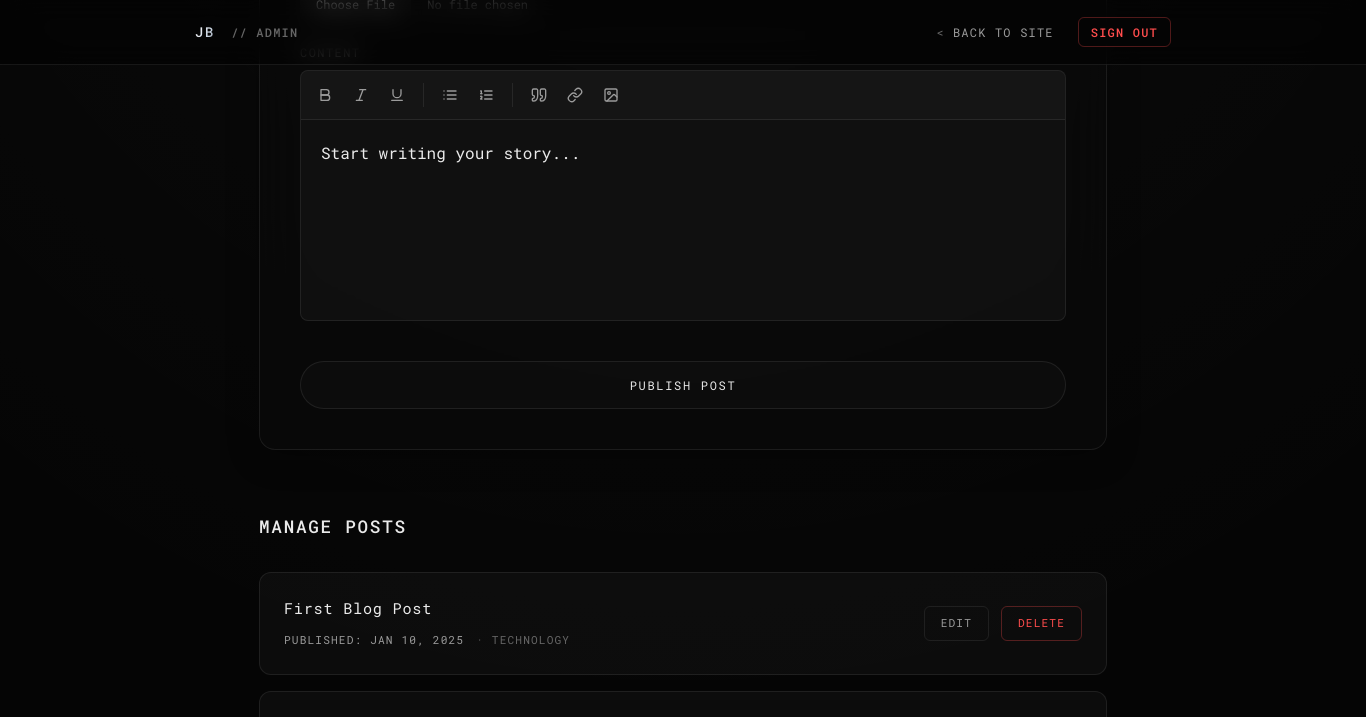
Test: AdminDashboard › shows validation error when submitting without a title
This screenshot has width=1366, height=717.
(page scrolled)
Click the button "PUBLISH POST" at (683, 385), box [300, 361, 1066, 409]
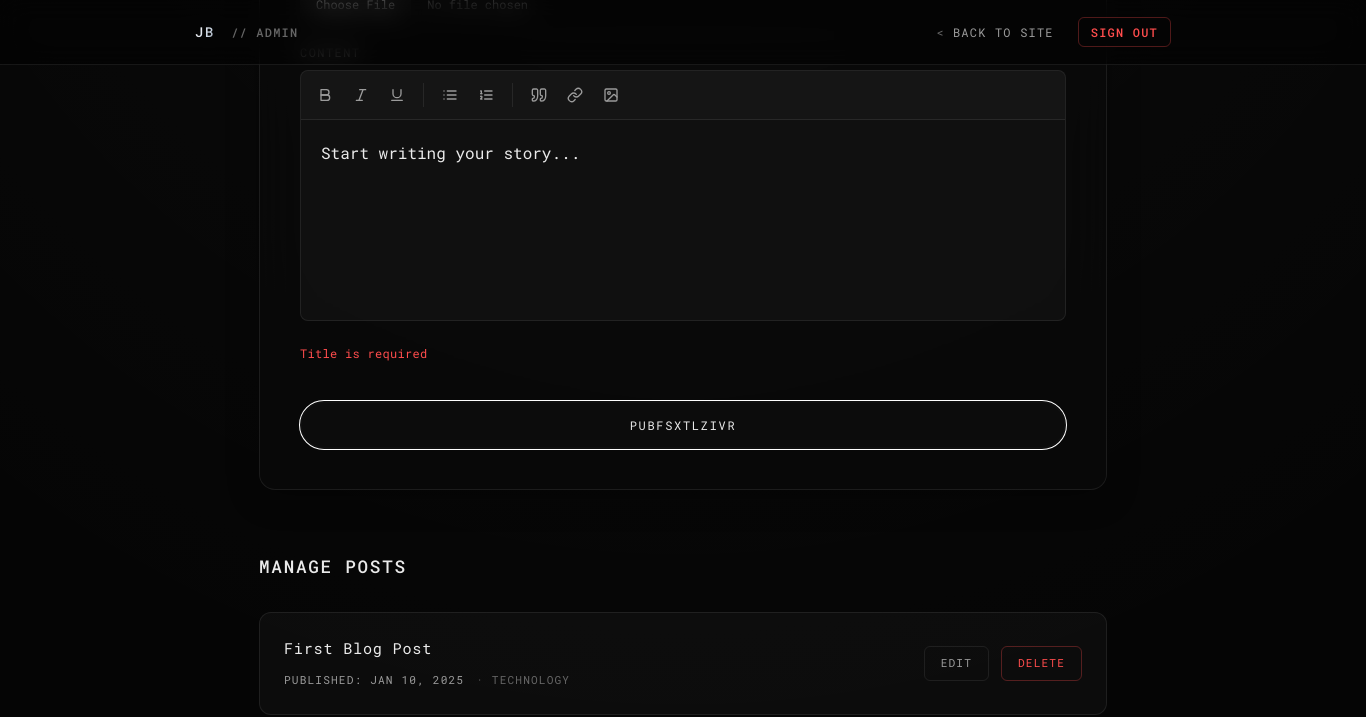
Expected: the text "Title is required" is shown, [300, 345, 428, 361]
